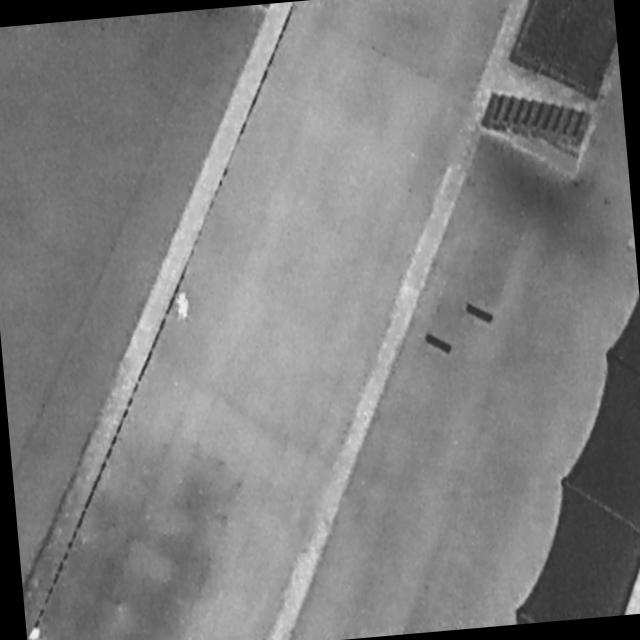person: (176, 288, 192, 323), (28, 622, 46, 640)
